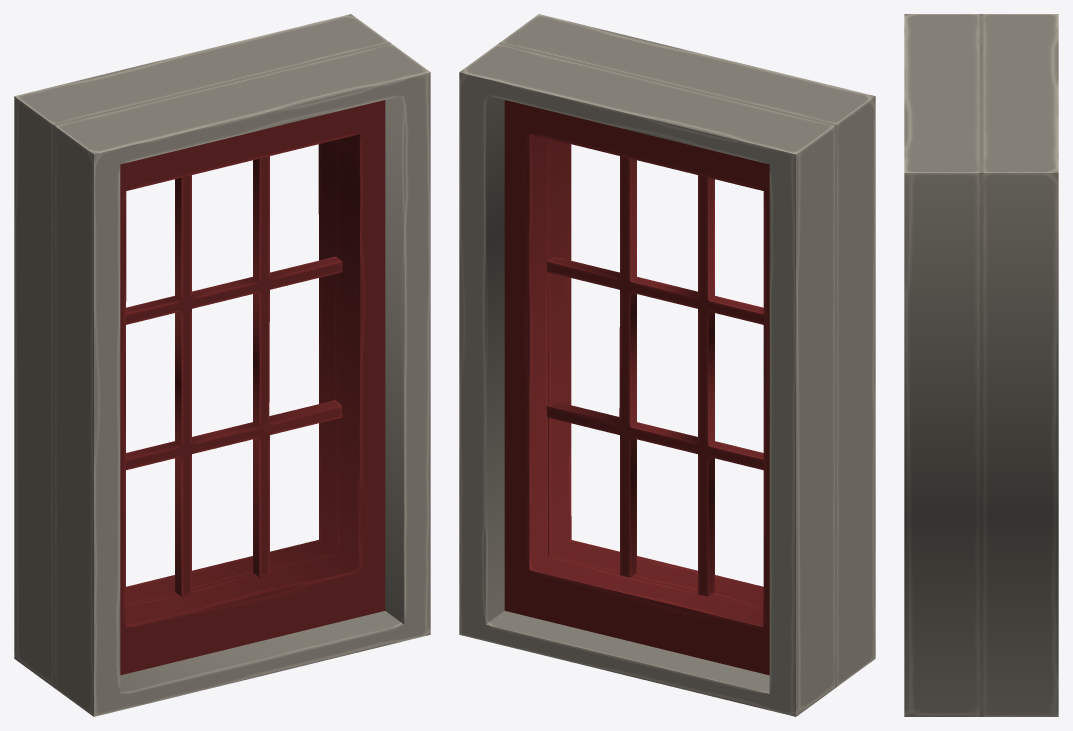
File: Window_Hole.fbx
3 renders of one model, left to right at view 1: azimuth 30°, elevation 25°; view 2: azimuth 150°, elevation 25°; view 3: azimuth 270°, elevation 25°, orthographic. The views are drawn at different scales.
Parts seen in each view (by area): view 1: Window_Hole; view 2: Window_Hole; view 3: Window_Hole.
Boxes of the visible parts, x1,y1,x2,y2 form: Window_Hole: (14, 14, 430, 716); Window_Hole: (459, 14, 875, 716); Window_Hole: (904, 14, 1058, 716).
Bounding box in the file's own units: 73.9 × 118 × 30.25.
Materials: 1 (1 with a texture image).
